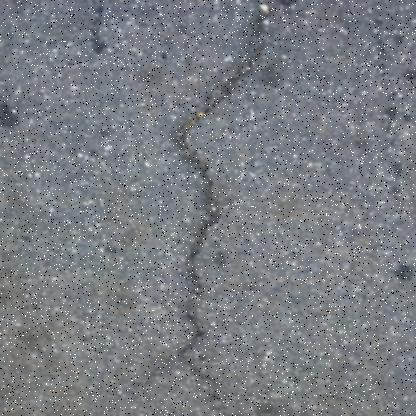Cracks: (152, 0, 288, 388)
